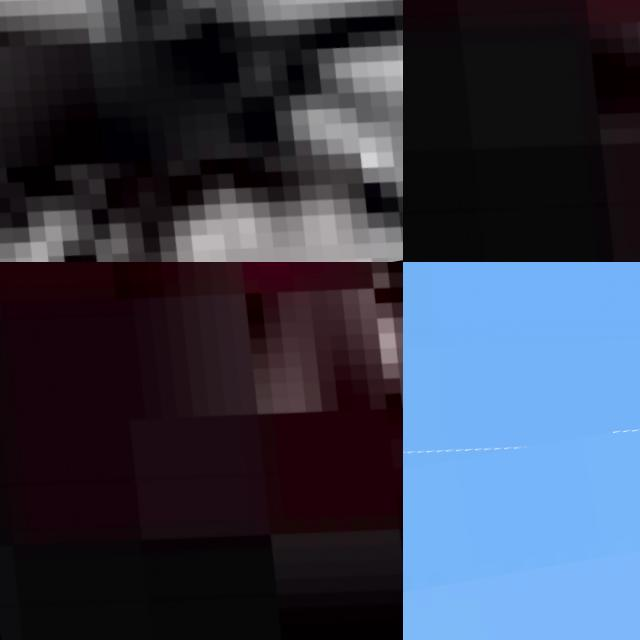drone: (0, 262, 403, 640), (0, 0, 403, 262), (403, 0, 640, 262), (403, 262, 640, 512)
